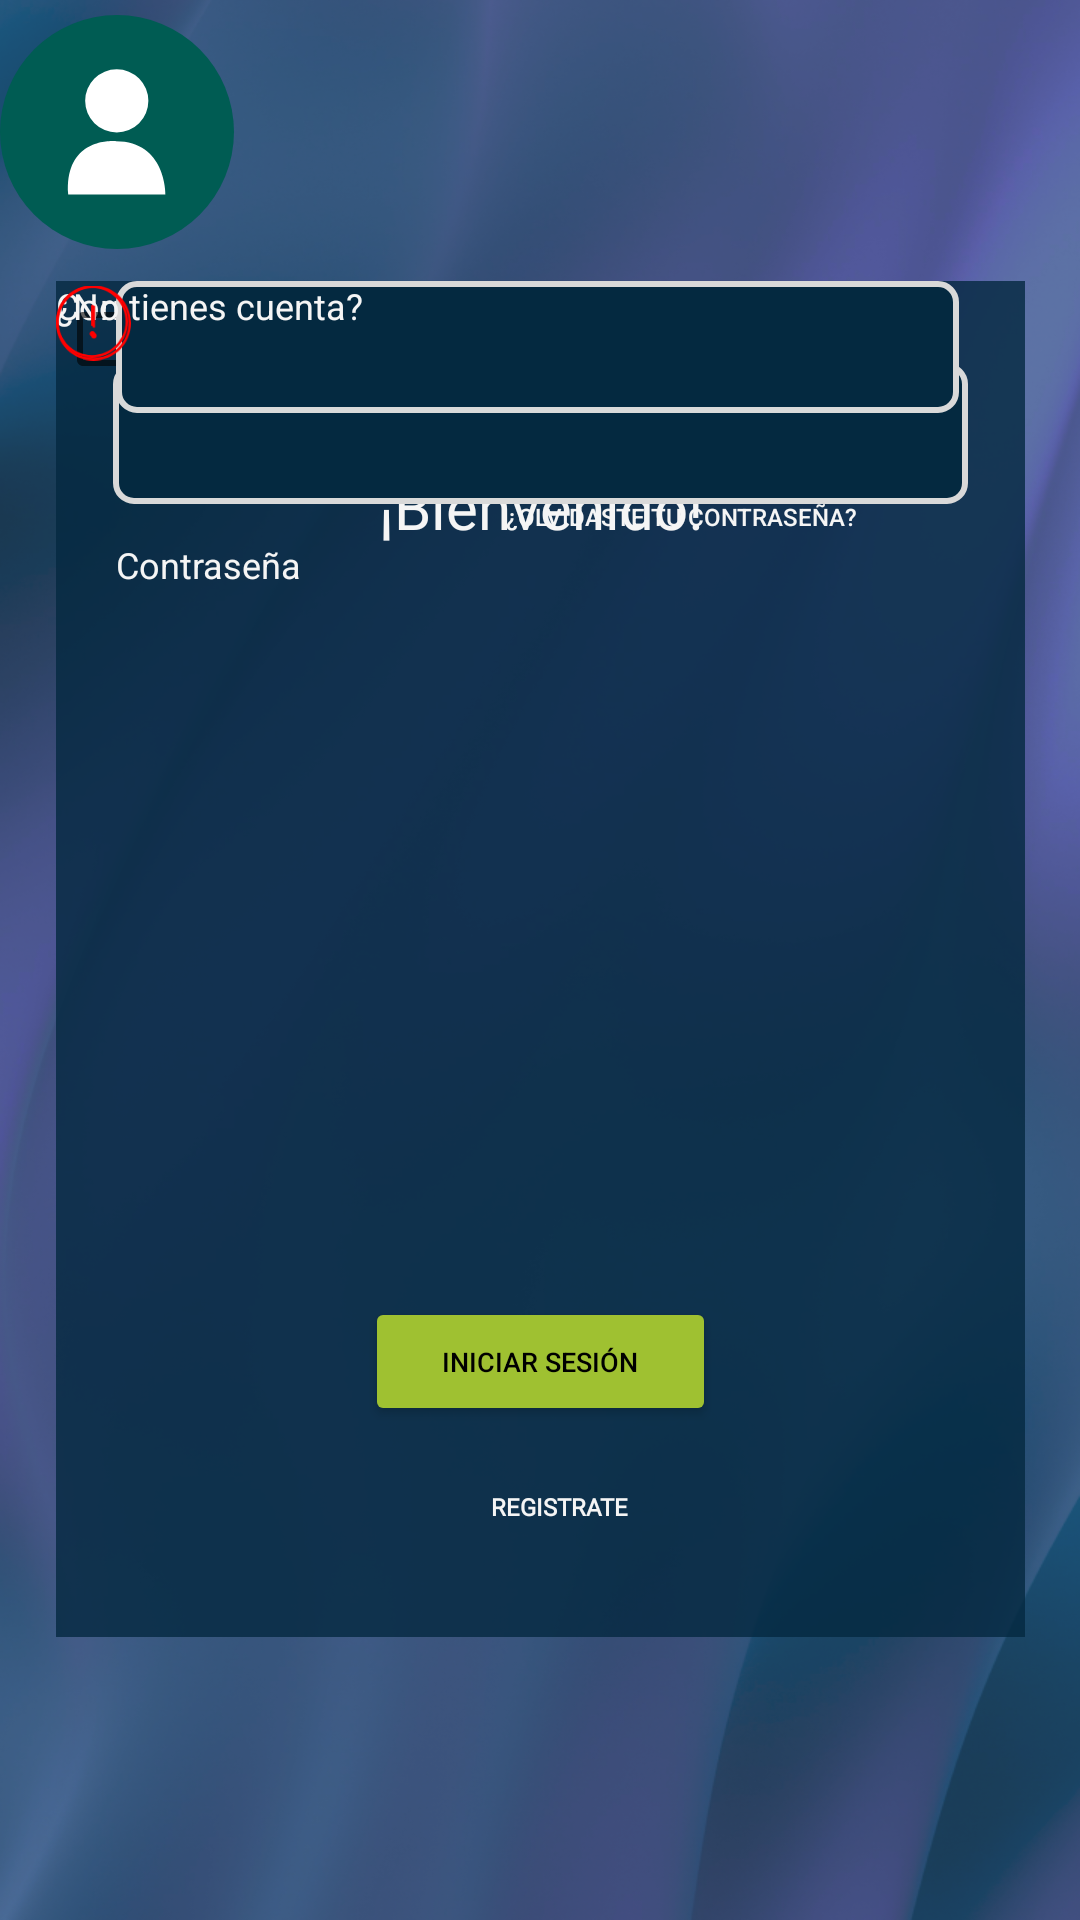

Icon click points for this 1080px×1920px phone screenshot, format (x=x, y=y):
iconoperfil: (x=117, y=128)
